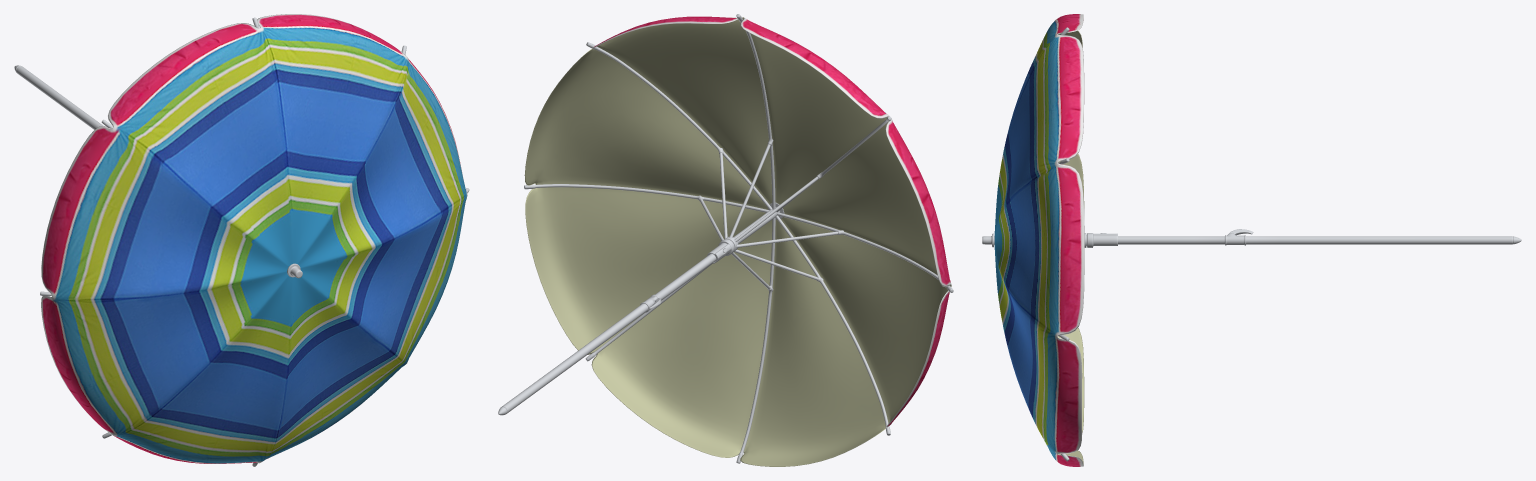
The model's file is 12984_beach_umbrella_v1_L2.obj.
The picture shows the model from 3 angles, left to right: view 1: azimuth 30°, elevation 25°; view 2: azimuth 150°, elevation 25°; view 3: azimuth 270°, elevation 25°; orthographic projection. The views are drawn at different scales.
Visible parts, largest first — view 1: 12984_beach_umbrella; view 2: 12984_beach_umbrella; view 3: 12984_beach_umbrella.
Part boxes in pixels (x1,y1,x2,y2): 12984_beach_umbrella: (14, 14, 469, 466); 12984_beach_umbrella: (498, 14, 953, 466); 12984_beach_umbrella: (982, 14, 1521, 466).
Size of the model in its own units: 126 by 126 by 145.
Materials: 1 (1 with a texture image).
